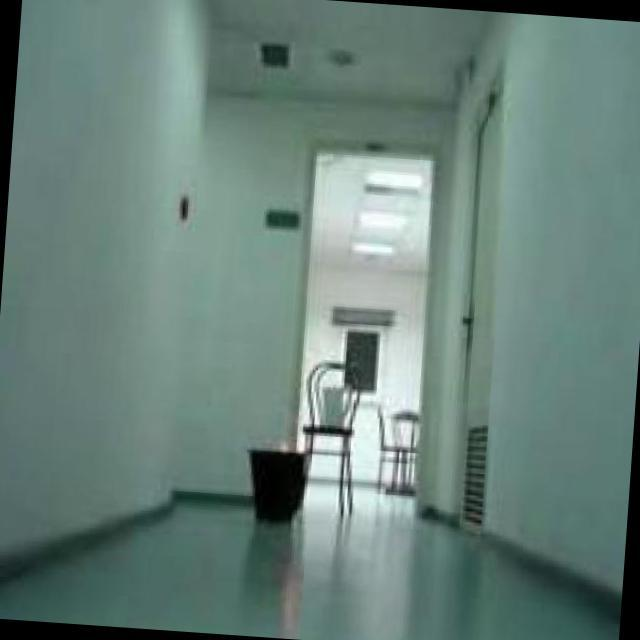Fire: (280, 437, 295, 458)
